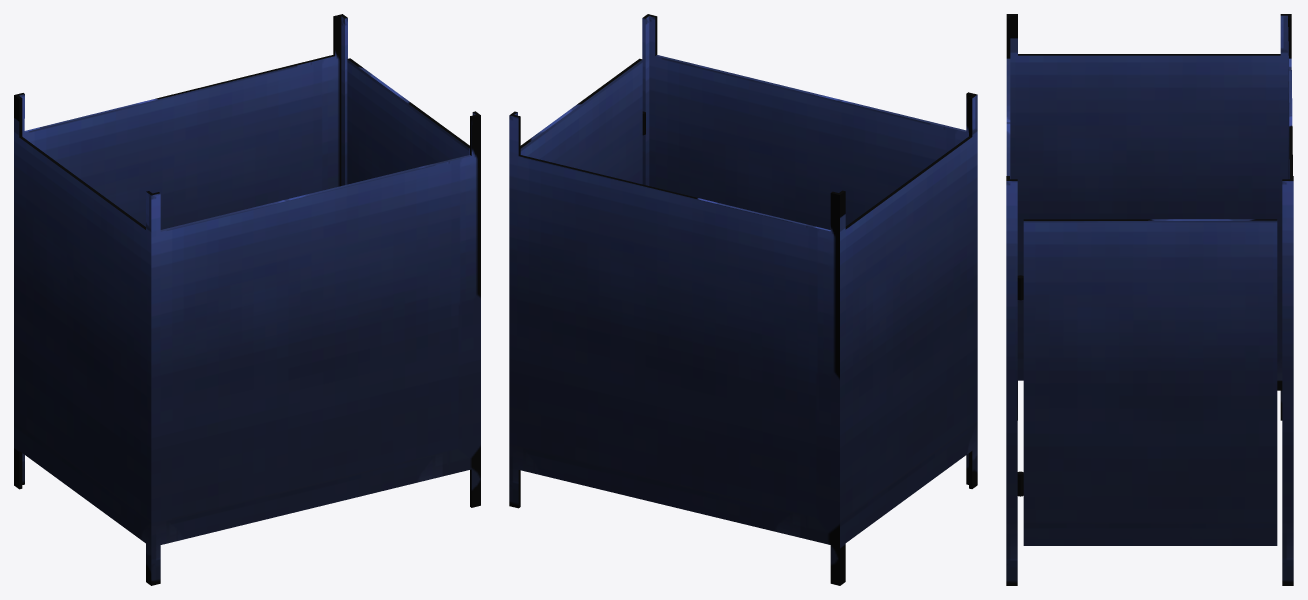
File: stall_closed.obj
The picture shows the model from 3 angles, left to right: view 1: azimuth 30°, elevation 25°; view 2: azimuth 150°, elevation 25°; view 3: azimuth 270°, elevation 25°; orthographic projection. The views are drawn at different scales.
Parts seen in each view (by area): view 1: stall_closed; view 2: stall_closed; view 3: stall_closed.
Part boxes in pixels (<box>): stall_closed: <box>14,14,480,585</box>; stall_closed: <box>509,14,977,585</box>; stall_closed: <box>1006,14,1293,585</box>.
Size of the model in its own units: 2.13 by 2.4 by 1.54.
